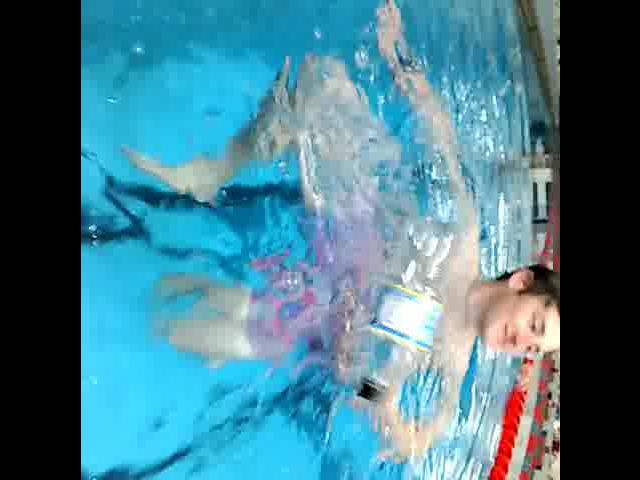Bottle: (350, 209, 456, 413)
